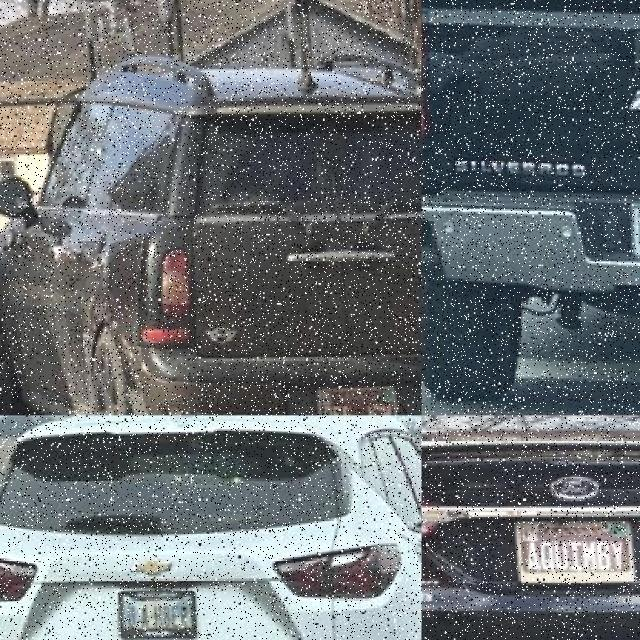LicensePlate: (510, 516, 631, 583), (112, 588, 192, 638), (309, 384, 391, 414)
